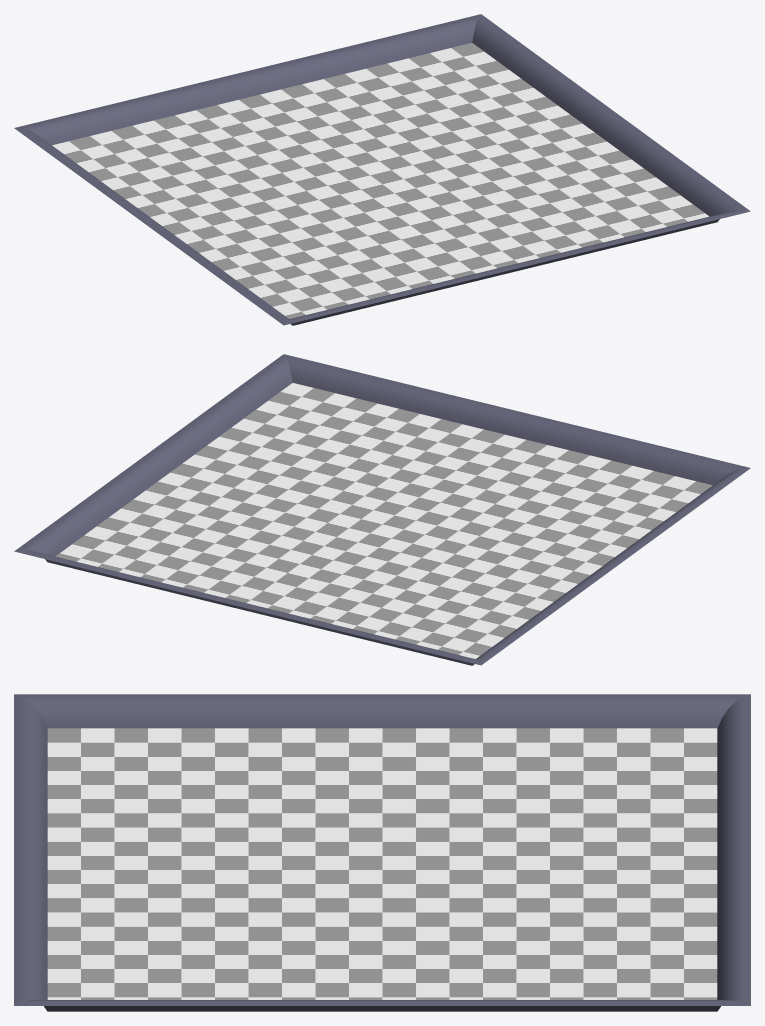
File: Arena Large.fbx
The picture shows the model from 3 angles, top to bottom: view 1: azimuth 30°, elevation 25°; view 2: azimuth 150°, elevation 25°; view 3: azimuth 270°, elevation 25°; orthographic projection. The views are drawn at different scales.
Parts seen in each view (by area): view 1: Cube1; view 2: Cube1; view 3: Cube1.
Boxes of the visible parts, x1,y1,x2,y2 form: Cube1: [14, 14, 750, 325]; Cube1: [14, 354, 750, 665]; Cube1: [14, 694, 750, 1011].
Size of the model in its own units: 22 by 0.6846 by 22.
